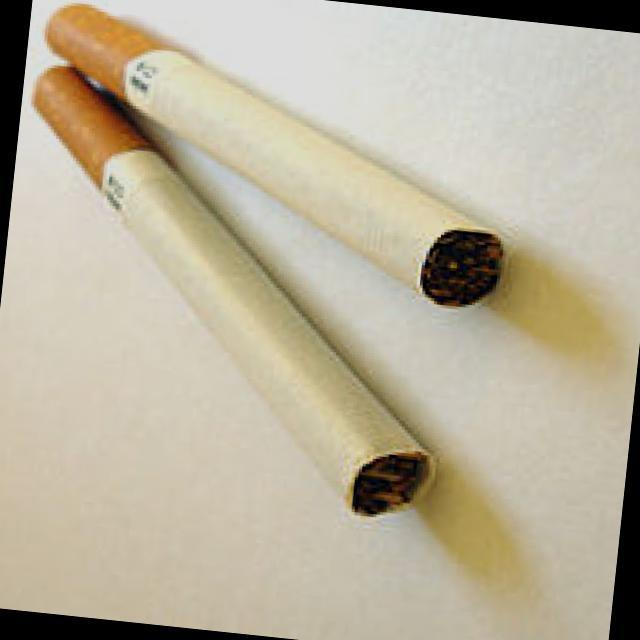cigarette: (0, 0, 531, 532)
